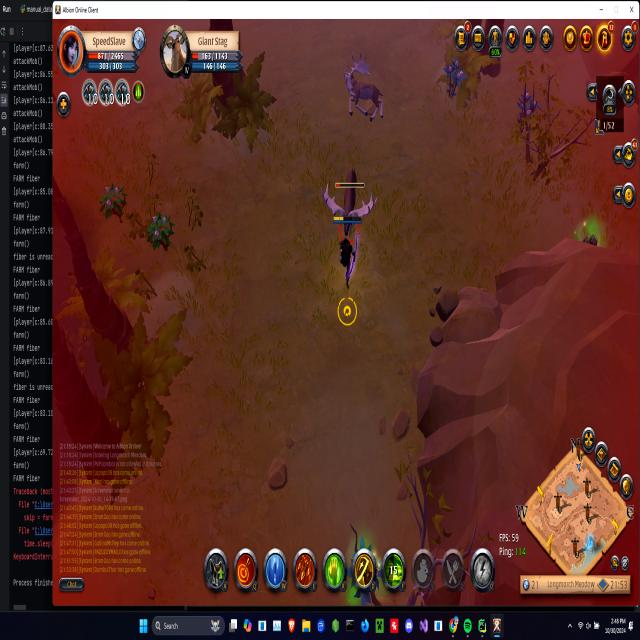hide: (97, 175, 132, 226), (516, 82, 540, 138), (146, 208, 174, 254), (443, 54, 466, 100)
mob: (340, 48, 387, 126)
ore: (322, 165, 377, 248)
red: (332, 212, 362, 285)
